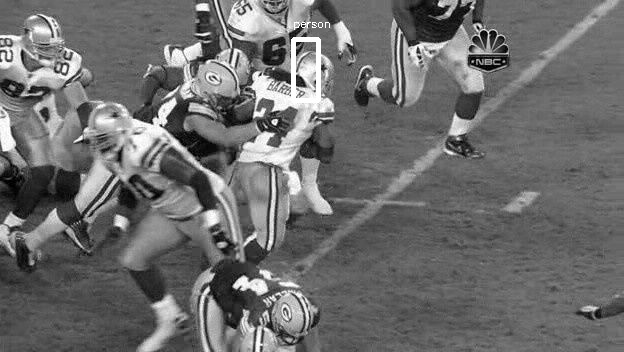person: (300, 51, 334, 94), (299, 51, 333, 94), (301, 51, 335, 94), (300, 50, 334, 93), (300, 52, 334, 95)
target_negative: (48, 268, 165, 327), (555, 116, 607, 160), (199, 321, 552, 327), (473, 204, 479, 302), (422, 243, 473, 253), (491, 286, 560, 290)
